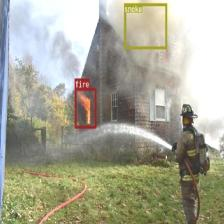fire: (74, 88, 96, 128)
smoke: (124, 4, 166, 48)
